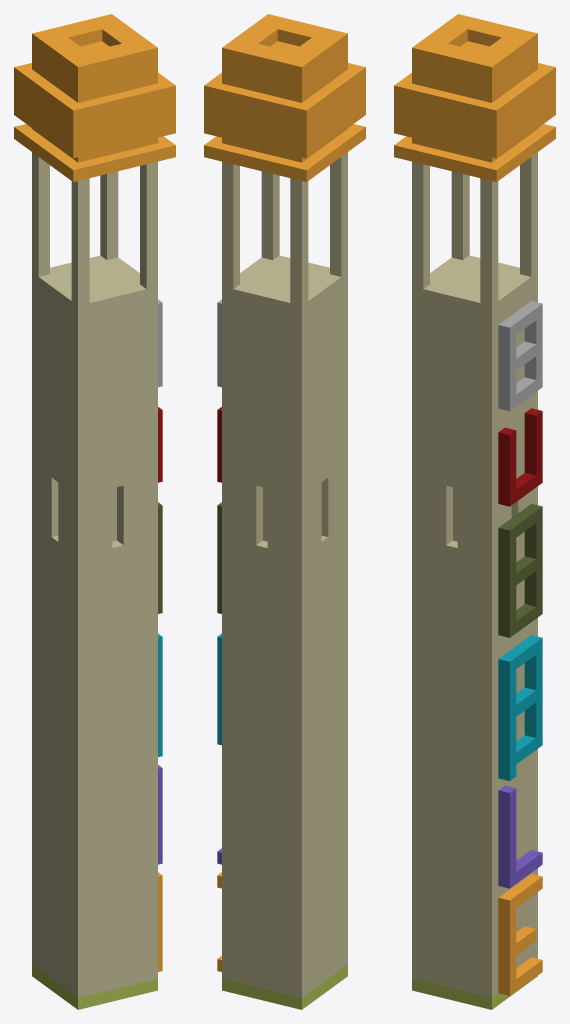
File: Wall.obj
3 renders of one model, left to right at view 1: azimuth 30°, elevation 25°; view 2: azimuth 150°, elevation 25°; view 3: azimuth 330°, elevation 25°, orthographic.
Bounding box in the file's own units: 9 × 79 × 9.
Materials: 1 (1 with a texture image).
